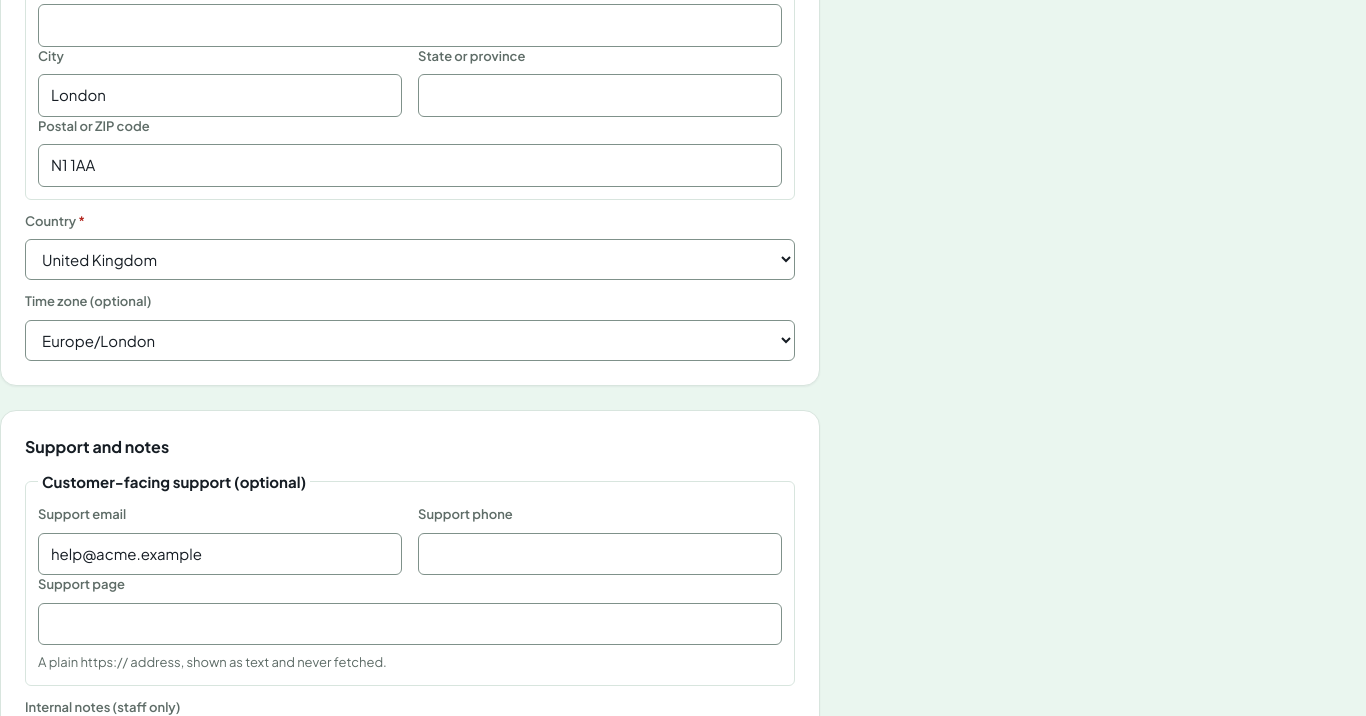
it: Business Details › sends a chosen time zone
The image size is (1366, 716).
(page scrolled)
Select "Asia/Kolkata" in the dropdown labelled "Time zone (optional)" at (410, 340), box [25,320,795,360]
(page scrolled)
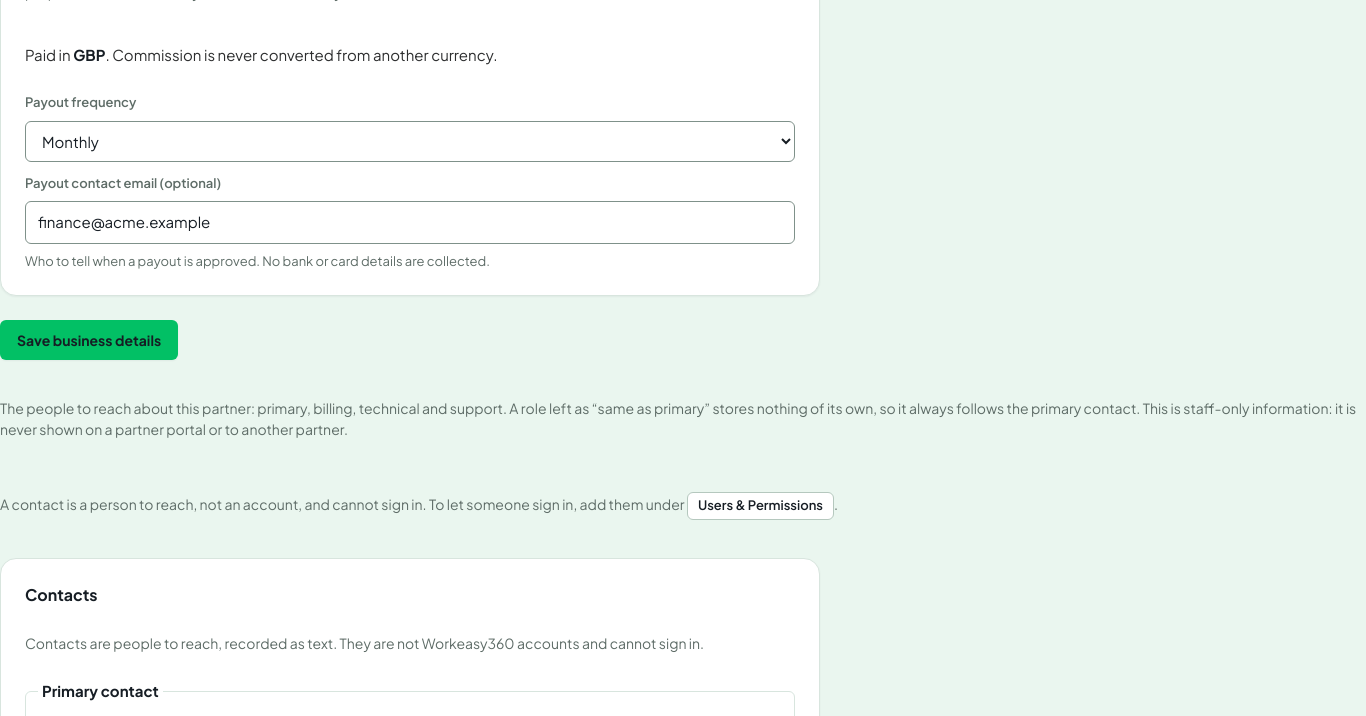
Click the button "Save business details" at (89, 340), box [0,320,178,360]
(page scrolled)
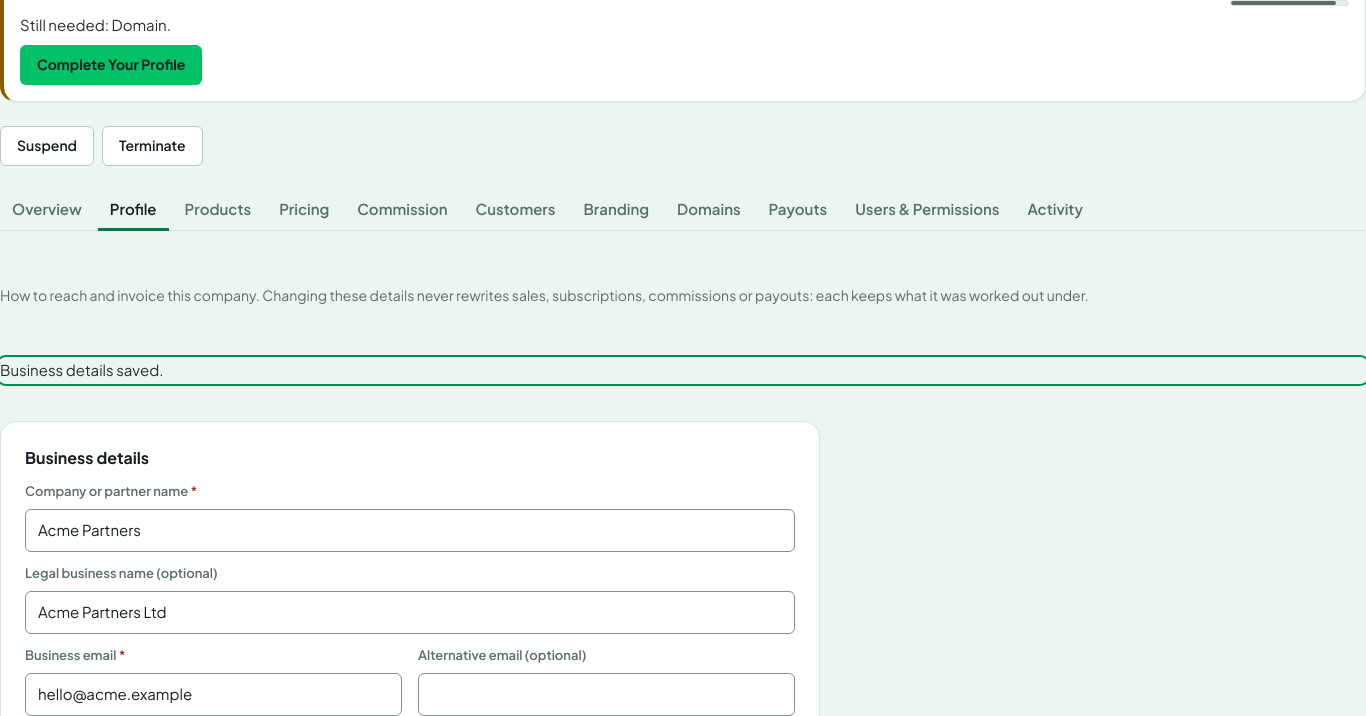
Now the text "Business details saved." is shown, box [0,360,163,379]
